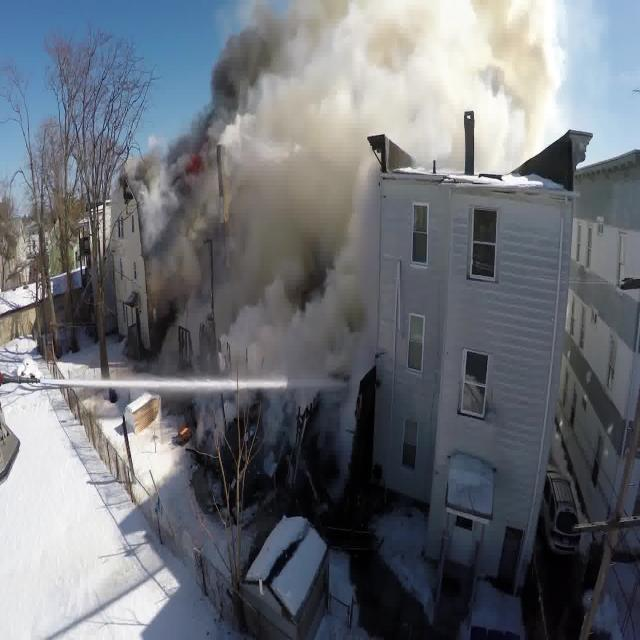Smoke: (118, 0, 568, 396)
